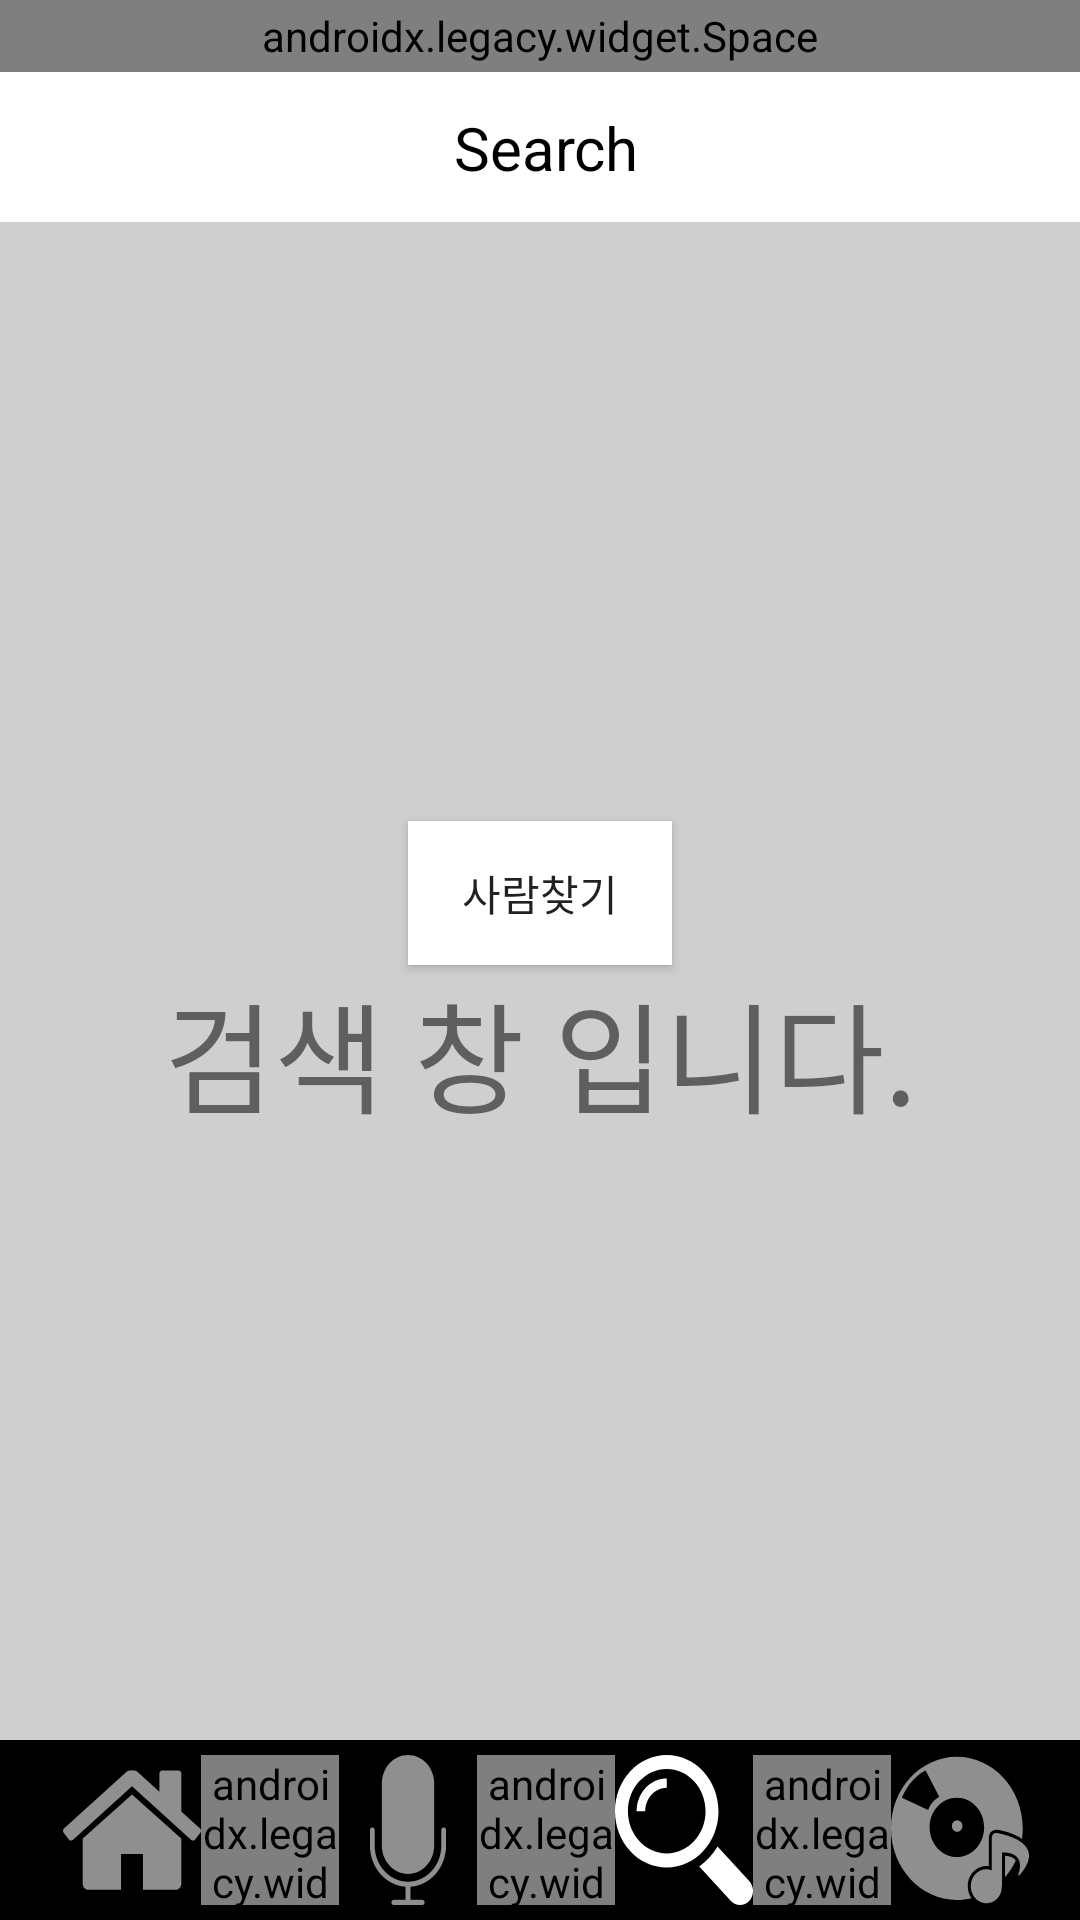

Icons on this 1080px×1920px Android screen, each with the point to tap as (x=x, y=y):
magnifier clicked: (x=684, y=1830)
microphone: (x=408, y=1830)
music album: (x=960, y=1830)
